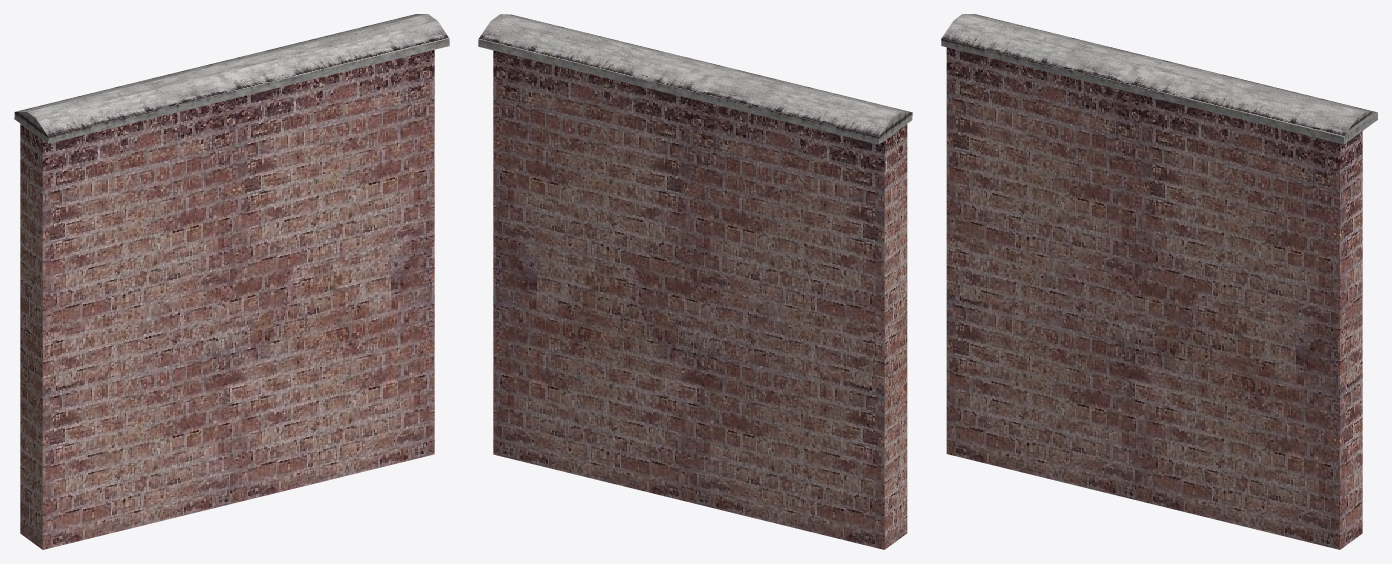
File: lf_brick_wall_one_overhang_small.glb
3 renders of one model, left to right at view 1: azimuth 30°, elevation 25°; view 2: azimuth 150°, elevation 25°; view 3: azimuth 330°, elevation 25°, orthographic.
Parts seen in each view (by area): view 1: brick_wall_one_overhang_small; view 2: brick_wall_one_overhang_small; view 3: brick_wall_one_overhang_small.
Boxes of the visible parts, x1=… form: brick_wall_one_overhang_small: x1=14, y1=14, x2=449, y2=549; brick_wall_one_overhang_small: x1=478, y1=14, x2=912, y2=549; brick_wall_one_overhang_small: x1=941, y1=14, x2=1377, y2=549.
Size of the model in its own units: 2.05 by 2.08 by 0.2995.
2 materials, 2 textured.
